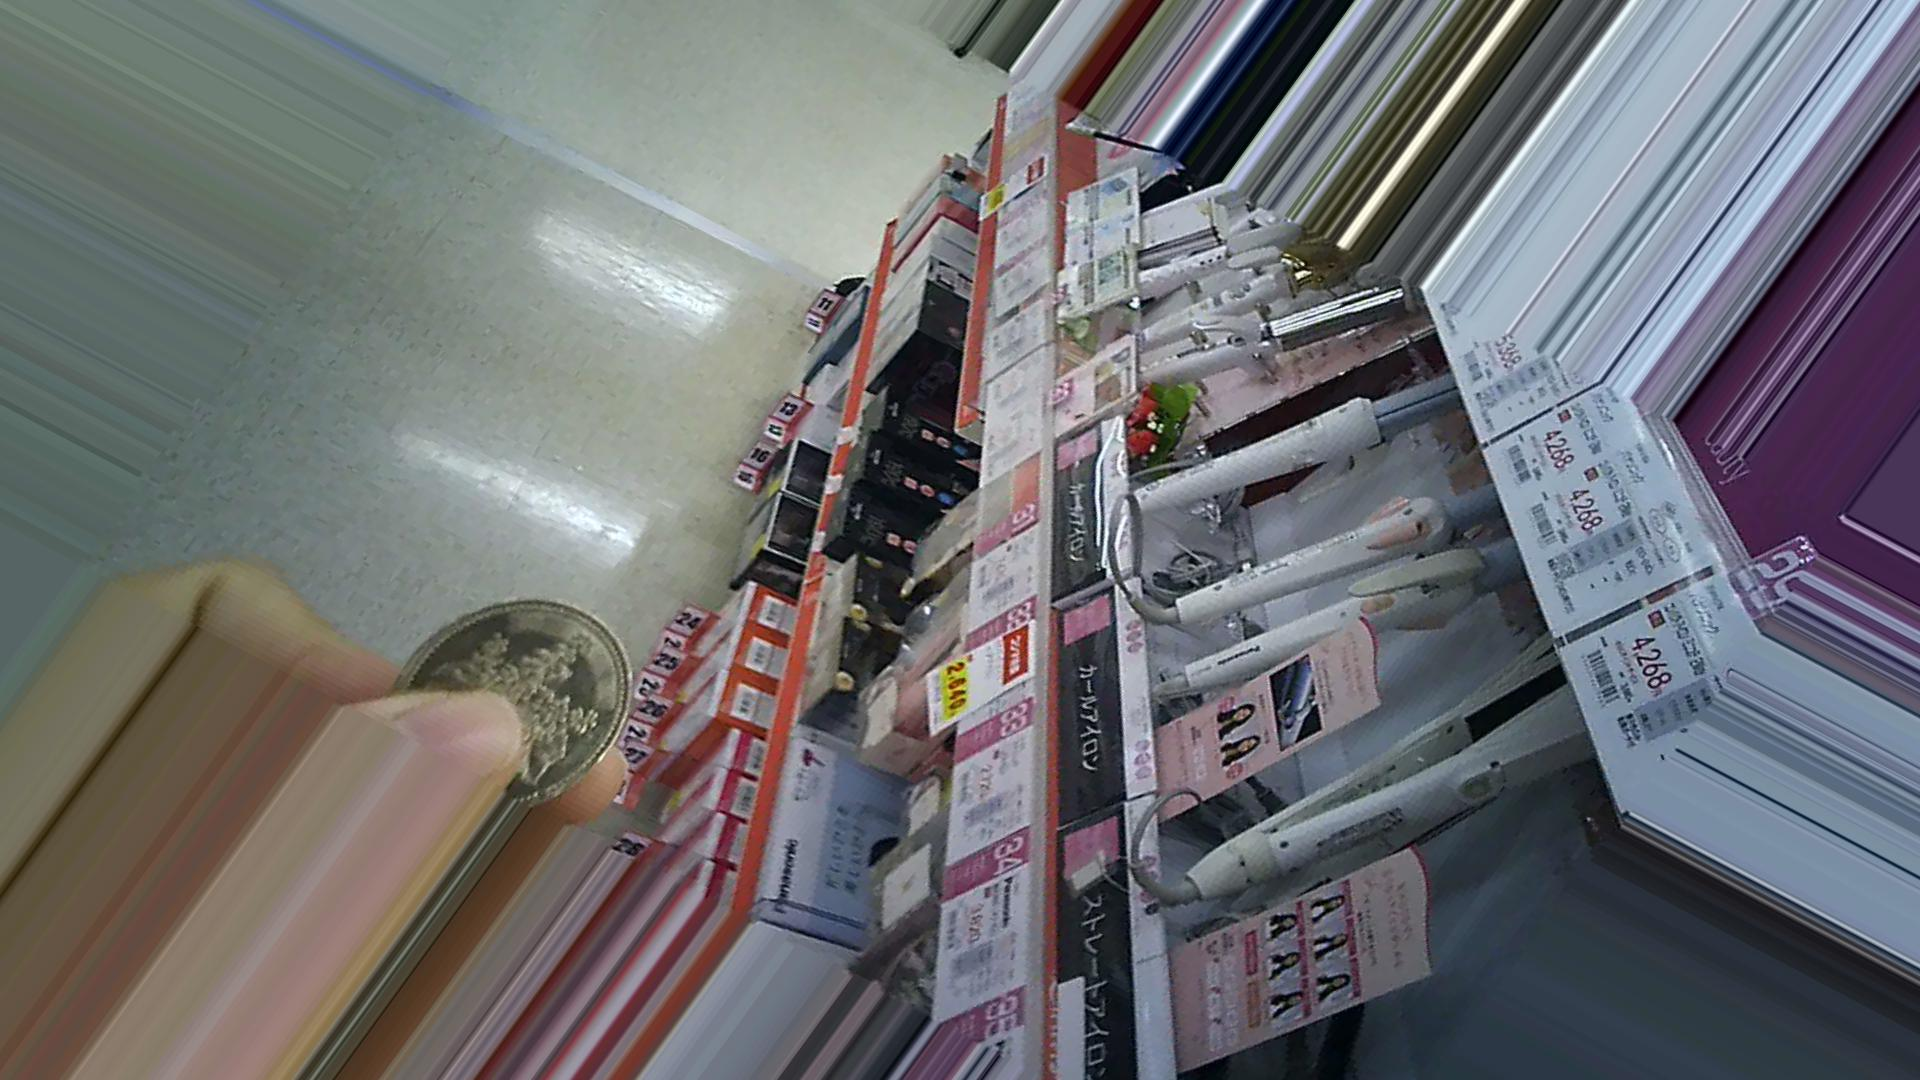500 Yen: (388, 593, 638, 818)
